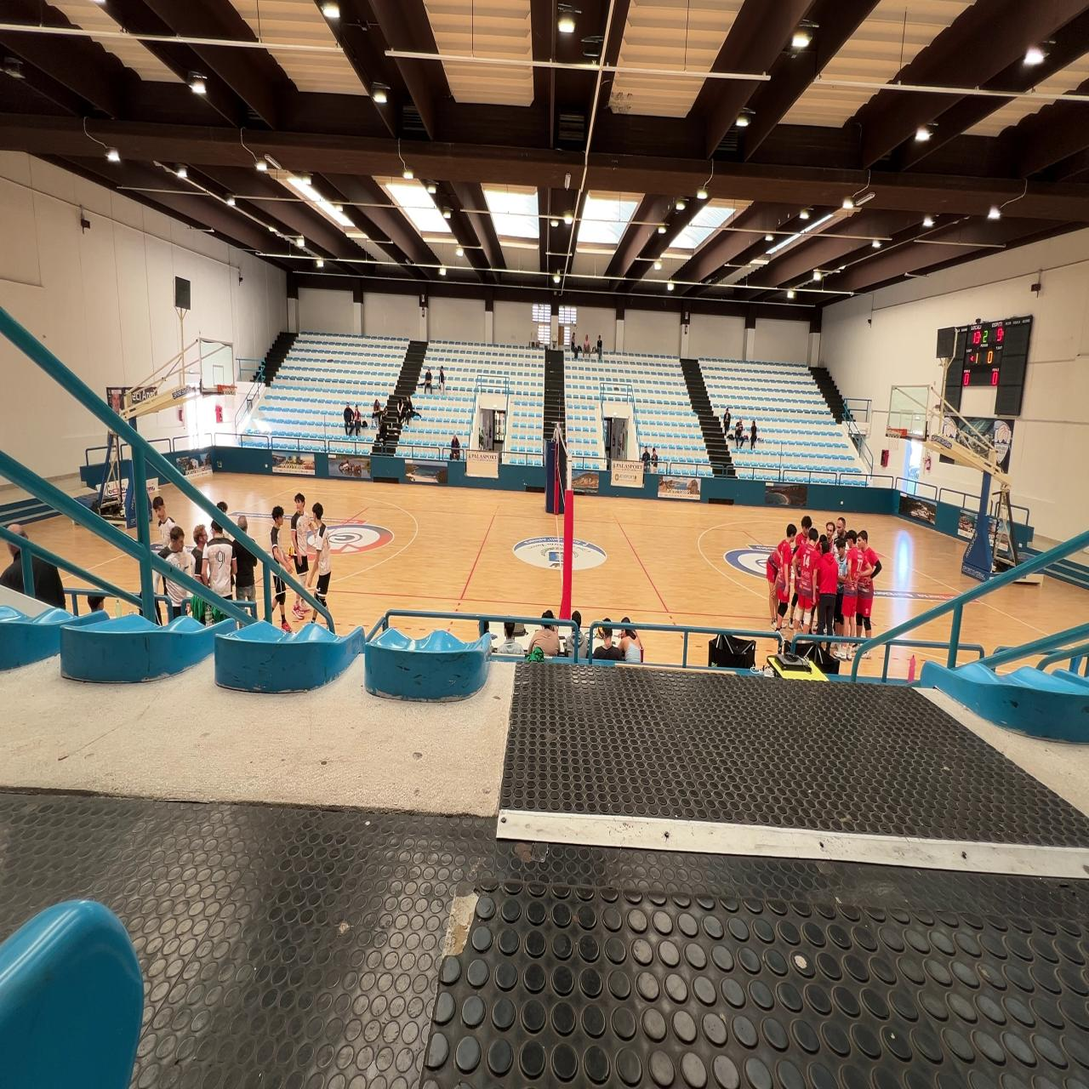ball: (288, 546, 294, 557)
